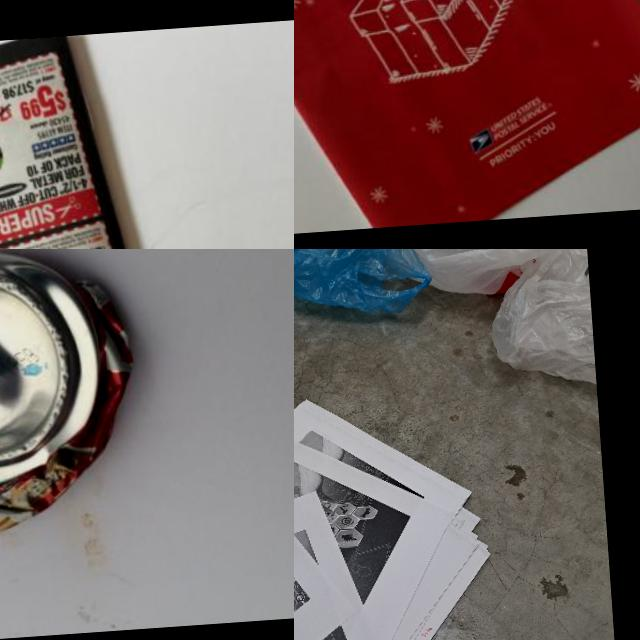lata: (0, 249, 150, 548)
papel: (294, 0, 640, 241), (294, 384, 510, 640), (0, 28, 195, 249)
sacola plástica: (485, 249, 596, 396), (294, 249, 458, 323), (387, 249, 589, 304)
